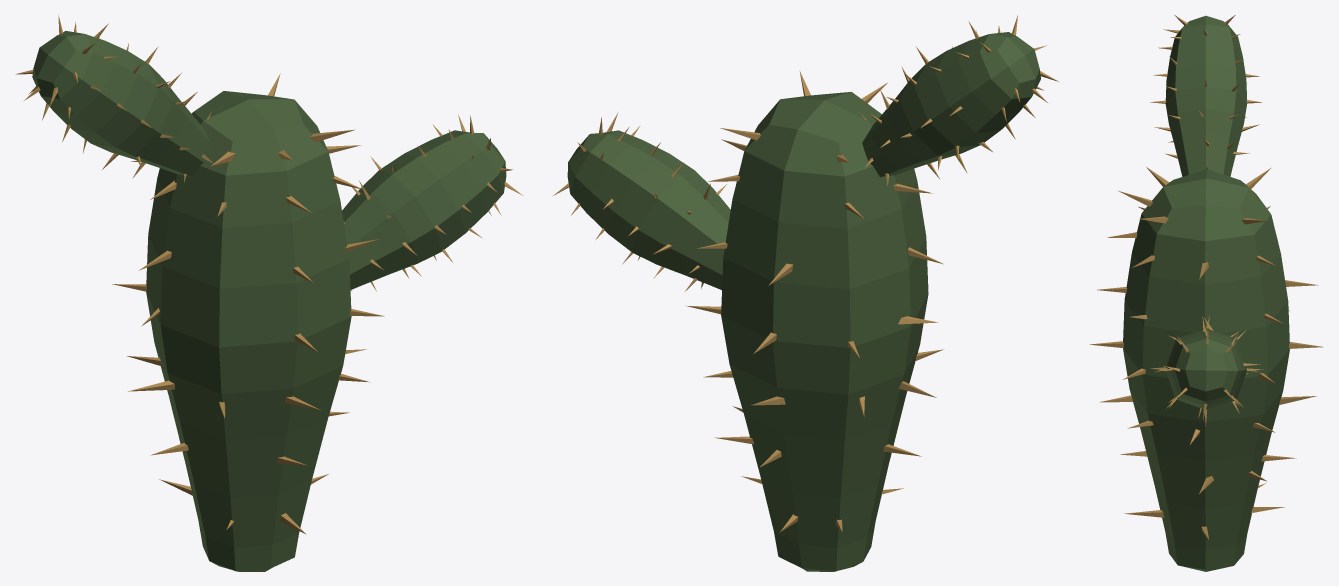
Rendered from Cactus_Harvested.glb.
3 views of the same model, side by side, from view 1: azimuth 30°, elevation 25°; view 2: azimuth 150°, elevation 25°; view 3: azimuth 270°, elevation 25° (orthographic). The views are drawn at different scales.
Visible parts, largest first — view 1: DarkGreen2, LightOrange; view 2: DarkGreen2, LightOrange; view 3: DarkGreen2, LightOrange.
Boxes of the visible parts, bbox=[...] form: DarkGreen2: bbox=[32, 31, 506, 571]; LightOrange: bbox=[15, 14, 522, 534]; DarkGreen2: bbox=[567, 32, 1040, 571]; LightOrange: bbox=[553, 15, 1058, 531]; DarkGreen2: bbox=[1123, 15, 1289, 571]; LightOrange: bbox=[1089, 15, 1322, 539].
Bounding box in the file's own units: 1.09 × 1.26 × 0.5629.
